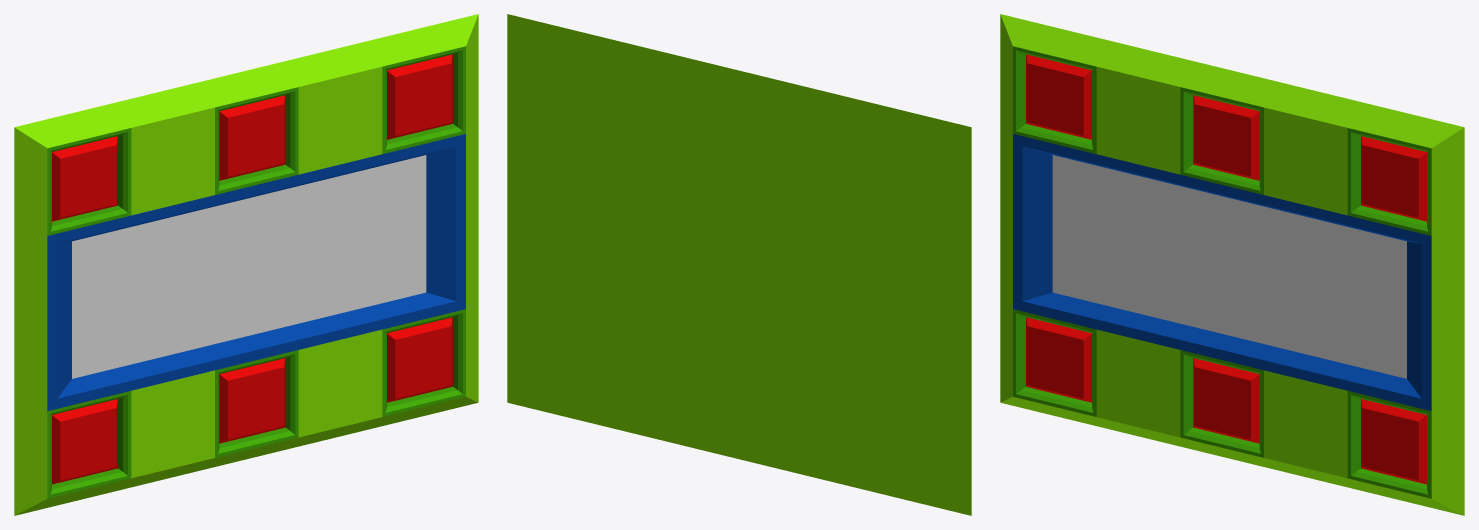
File: Locker.fbx
3 renders of one model, left to right at view 1: azimuth 30°, elevation 25°; view 2: azimuth 150°, elevation 25°; view 3: azimuth 330°, elevation 25°, orthographic.
Parts seen in each view (by area): view 1: polySurface12; view 2: polySurface12; view 3: polySurface12.
Part boxes in pixels (x1,y1,x2,y2): polySurface12: (14, 14, 478, 515); polySurface12: (507, 14, 971, 515); polySurface12: (1000, 14, 1464, 515).
Size of the model in its own units: 20.38 by 16.31 by 0.7827.
